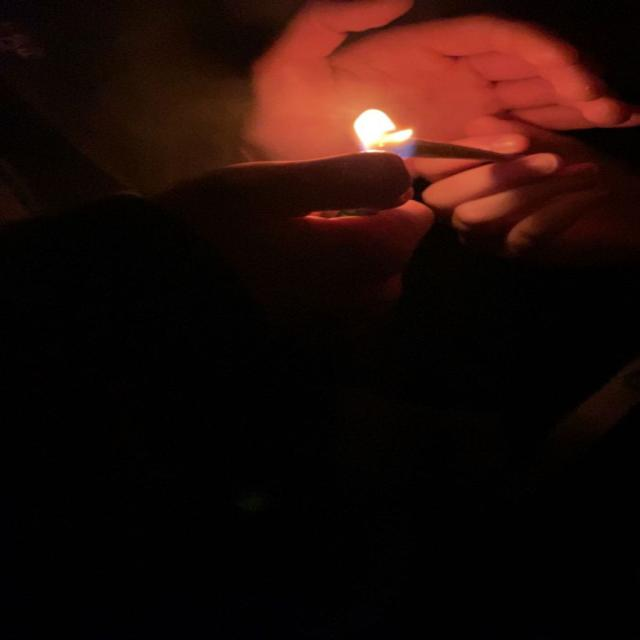fire: (348, 108, 418, 160)
